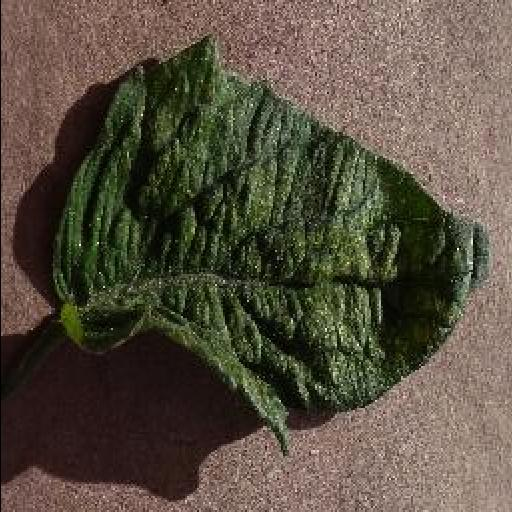disease_tomato: (55, 38, 489, 458)
